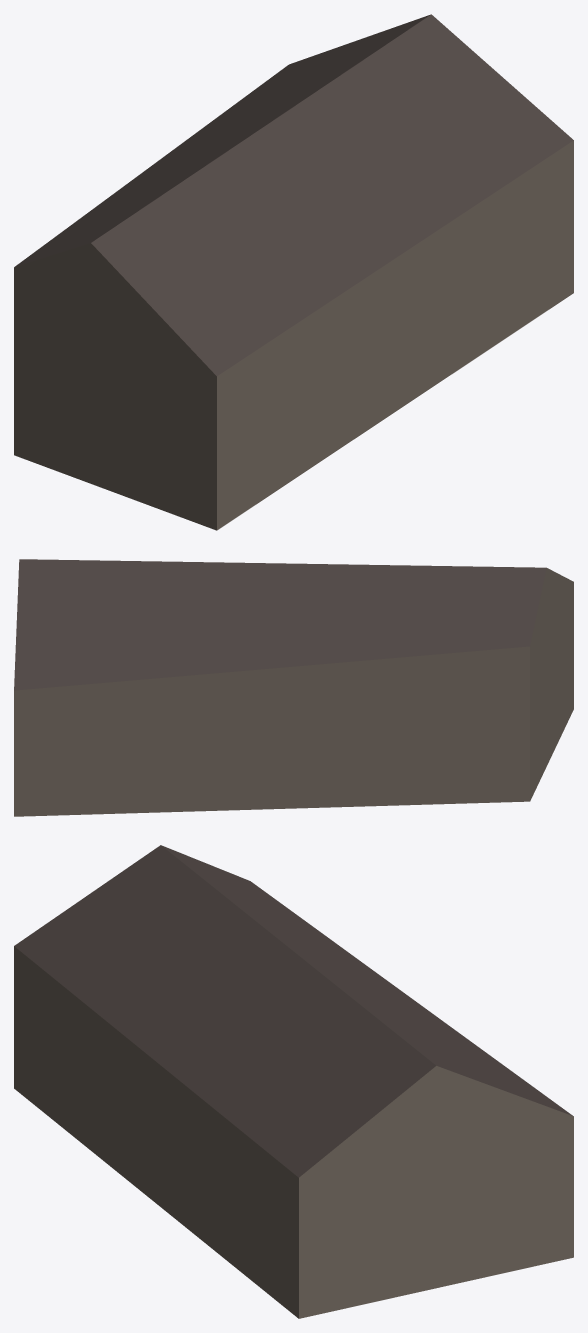
3 renders of one model, top to bottom at view 1: azimuth 30°, elevation 25°; view 2: azimuth 150°, elevation 25°; view 3: azimuth 270°, elevation 25°, orthographic. The views are drawn at different scales.
Parts seen in each view (by area): view 1: HP-w1516161957; view 2: HP-w1516161957; view 3: HP-w1516161957.
Boxes of the visible parts, x1,y1,x2,y2 form: HP-w1516161957: (14, 14, 573, 530); HP-w1516161957: (14, 559, 573, 816); HP-w1516161957: (14, 845, 573, 1318).
Bounding box in the file's own units: 24.09 × 9.46 × 21.58.
